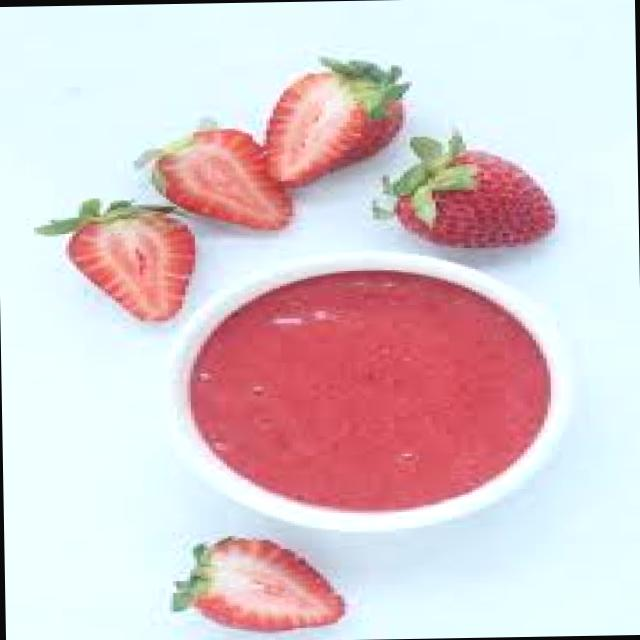strawberry: (368, 126, 564, 255), (46, 202, 194, 338), (260, 65, 406, 186), (170, 534, 346, 632), (140, 124, 292, 231)
